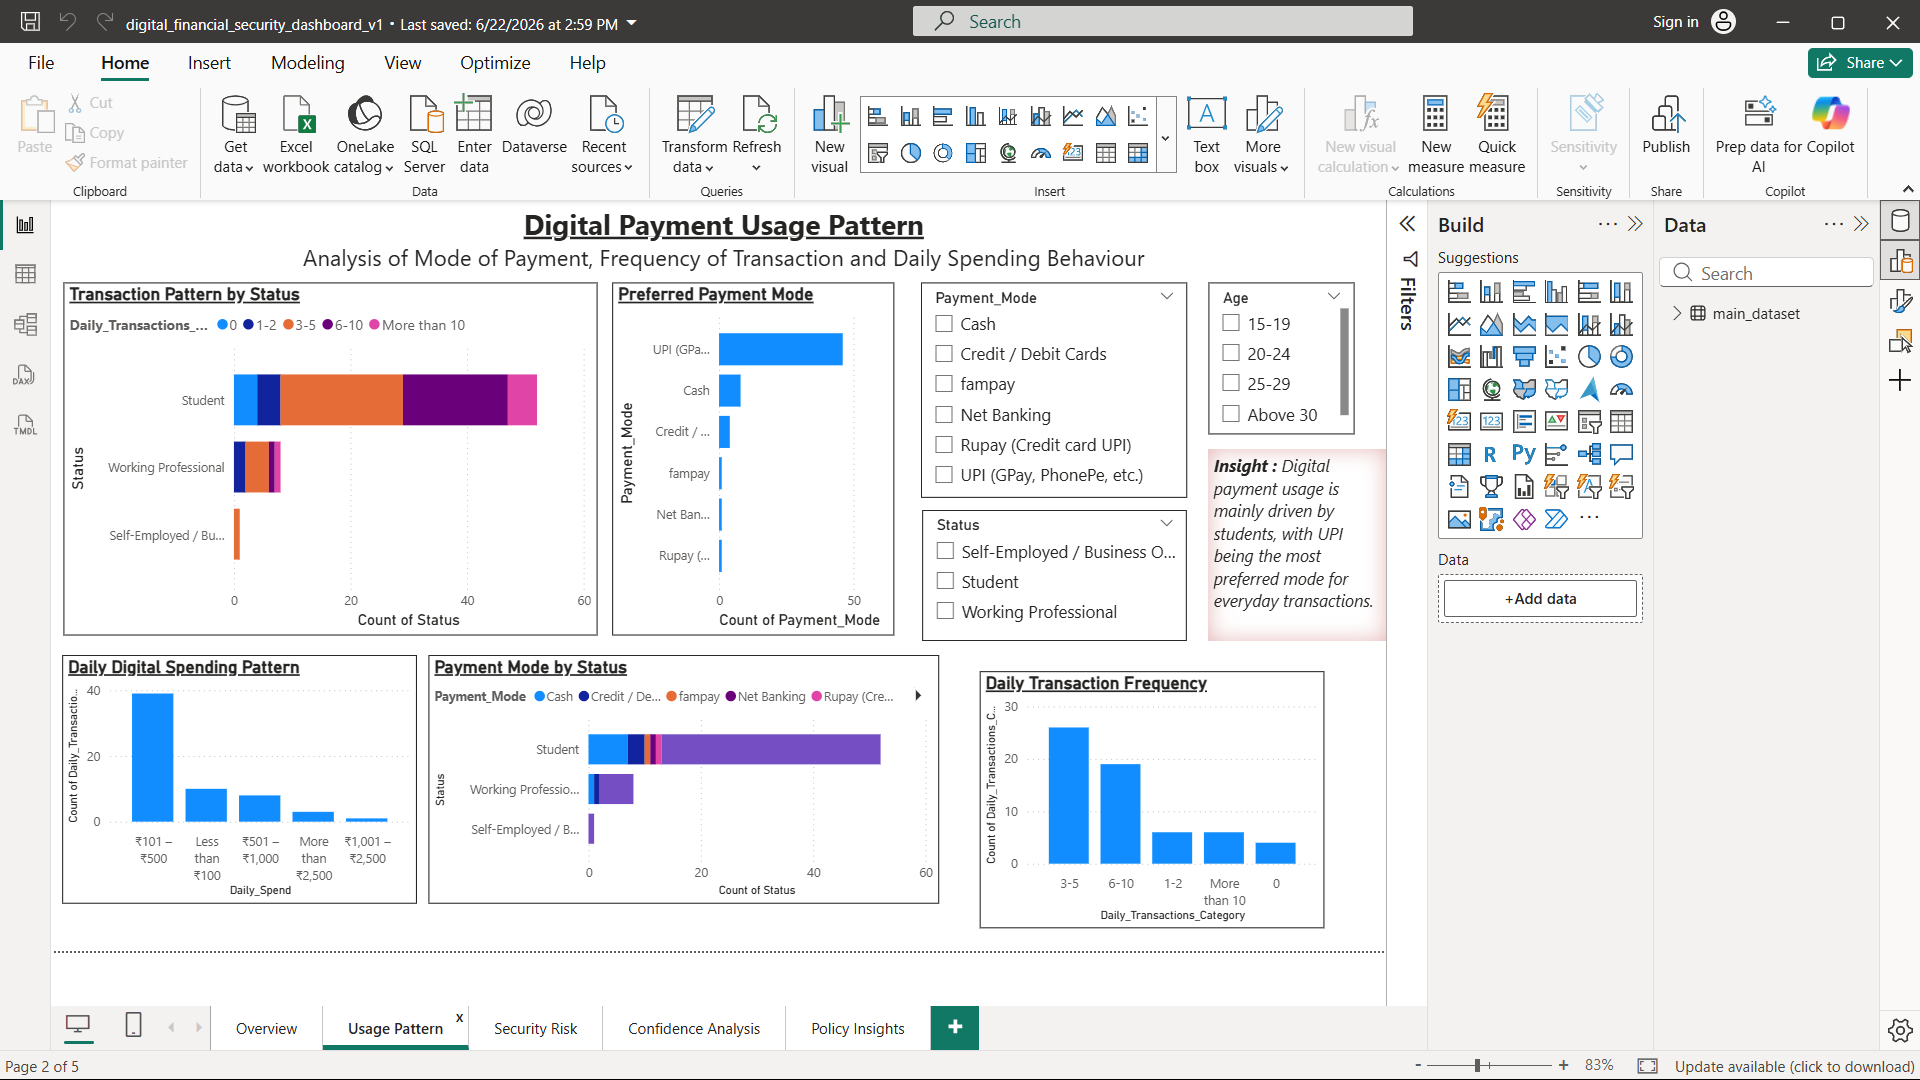

What the dashboard file says about the page in this screenshot:
{"tool":"powerbi","page":{"name":"Usage Pattern","canvas":[1280,720],"ordinal":1},"visuals":[{"type":"textbox","box":[11.3,0,1268.6,79.1],"z":0},{"type":"clusteredColumnChart","title":"Daily Transaction Frequency","fields":{"Category":["main_dataset.Daily_Transactions_Category"],"Y":["CountNonNull(main_dataset.Daily_Transactions_Category)"]},"box":[890.2,451.6,330.4,246.7],"z":1000},{"type":"clusteredColumnChart","title":"Daily Digital Spending Pattern","fields":{"Category":["main_dataset.Daily_Spend"],"Y":["CountNonNull(main_dataset.Daily_Transactions_Category)"]},"box":[10.8,435.8,340,238],"z":2000},{"type":"clusteredBarChart","title":"Preferred Payment Mode ","fields":{"Category":["main_dataset.Payment_Mode"],"Y":["CountNonNull(main_dataset.Payment_Mode)"]},"box":[537.8,78.8,270.5,338.5],"z":3000},{"type":"barChart","title":"Transaction Pattern by Status ","fields":{"Category":["main_dataset.Status"],"Series":["main_dataset.Daily_Transactions_Category"],"Y":["CountNonNull(main_dataset.Status)"]},"box":[11.9,79.1,512.1,338.1],"z":4000},{"type":"barChart","title":"Payment Mode by Status","fields":{"Category":["main_dataset.Status"],"Series":["main_dataset.Payment_Mode"],"Y":["CountNonNull(main_dataset.Status)"]},"box":[361.7,435.8,489.9,238],"z":5000},{"type":"slicer","fields":{"Values":["main_dataset.Status"]},"box":[835.4,297.2,253.9,125.5],"z":6000},{"type":"slicer","fields":{"Values":["main_dataset.Age"]},"box":[1109.5,79.4,139.9,145.7],"z":7000},{"type":"slicer","fields":{"Values":["main_dataset.Payment_Mode"]},"box":[833.9,79.4,255.4,206.3],"z":8000},{"type":"textbox","box":[1109.5,238.1,170.2,184.7],"z":9000}]}

Visuals, with their boxes on the page's 1280x720 design canvas (x1, y1, x2, y2). These are canvas units, not pixel positions in the 1920x1080 screenshot, which may show the page scaled, cropped or inside an application window:
textbox: [11,0,1280,79]
"Daily Transaction Frequency" clusteredColumnChart: [890,452,1221,698]
"Daily Digital Spending Pattern" clusteredColumnChart: [11,436,351,674]
"Preferred Payment Mode " clusteredBarChart: [538,79,808,417]
"Transaction Pattern by Status " barChart: [12,79,524,417]
"Payment Mode by Status" barChart: [362,436,852,674]
slicer - main_dataset.Status: [835,297,1089,423]
slicer - main_dataset.Age: [1110,79,1249,225]
slicer - main_dataset.Payment_Mode: [834,79,1089,286]
textbox: [1110,238,1280,423]
